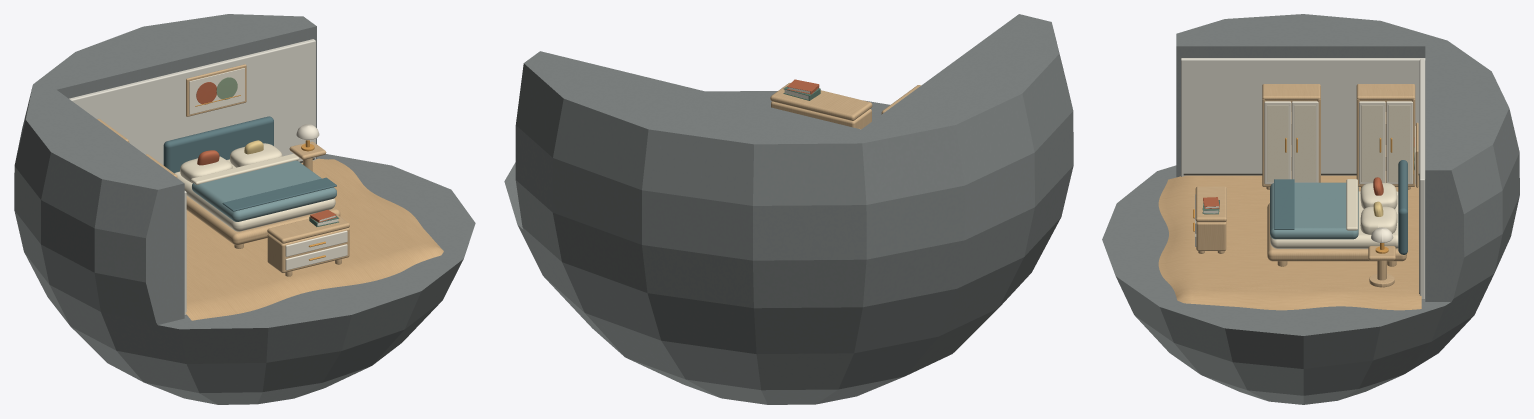
File: roomlet-together-original.glb
3 renders of one model, left to right at view 1: azimuth 30°, elevation 25°; view 2: azimuth 150°, elevation 25°; view 3: azimuth 270°, elevation 25°, orthographic. The views are drawn at different scales.
Parts seen in each view (by area): view 1: Shell_Stone_LowPoly, Floor_Rectangular_Oak, Wall_Back, Bed_Duvet, Bed_Upholstered_Headboard, Bed_Mattress, Bed_Oak_Platform, Bed_Foot_Throw, Art_Field, Dresser_Carcass, Dresser_Top, Bed_Duvet_Fold (+5 smaller); view 2: Shell_Stone_LowPoly, Dresser_Top, Dresser_Carcass; view 3: Shell_Stone_LowPoly, Floor_Rectangular_Oak, Wall_Left, Furniture_Wardrobe_B, Furniture_Wardrobe_A, Bed_Duvet, Bed_Oak_Platform, Bed_Mattress, Wall_Back, Bed_Foot_Throw, Furniture_Wardrobe_A_Crown, Furniture_Wardrobe_B_Crown (+6 smaller).
Part boxes in pixels (bbox=[...]): Shell_Stone_LowPoly: bbox=[14, 14, 475, 404]; Floor_Rectangular_Oak: bbox=[185, 158, 443, 320]; Wall_Back: bbox=[69, 39, 315, 165]; Bed_Duvet: bbox=[192, 160, 336, 221]; Bed_Upholstered_Headboard: bbox=[163, 116, 273, 173]; Bed_Mattress: bbox=[174, 159, 335, 231]; Bed_Oak_Platform: bbox=[186, 196, 340, 245]; Bed_Foot_Throw: bbox=[222, 177, 336, 211]; Art_Field: bbox=[189, 68, 244, 114]; Dresser_Carcass: bbox=[267, 228, 349, 272]; Dresser_Top: bbox=[267, 212, 349, 243]; Bed_Duvet_Fold: bbox=[191, 154, 299, 184]; Shell_Stone_LowPoly: bbox=[504, 14, 1073, 404]; Dresser_Top: bbox=[770, 83, 872, 120]; Dresser_Carcass: bbox=[771, 101, 871, 128]; Shell_Stone_LowPoly: bbox=[1102, 14, 1519, 404]; Floor_Rectangular_Oak: bbox=[1158, 175, 1421, 310]; Wall_Left: bbox=[1181, 58, 1425, 179]; Furniture_Wardrobe_B: bbox=[1264, 101, 1318, 189]; Furniture_Wardrobe_A: bbox=[1359, 101, 1412, 189]; Bed_Duvet: bbox=[1270, 182, 1358, 239]; Bed_Oak_Platform: bbox=[1267, 203, 1406, 261]; Bed_Mattress: bbox=[1270, 191, 1398, 248]; Wall_Back: bbox=[1419, 59, 1424, 299]; Bed_Foot_Throw: bbox=[1274, 179, 1294, 229]; Furniture_Wardrobe_A_Crown: bbox=[1356, 84, 1415, 100]; Furniture_Wardrobe_B_Crown: bbox=[1262, 84, 1320, 100].
Bounding box in the file's own units: 7.09 × 4.63 × 6.41.
15 materials, 8 textured.
